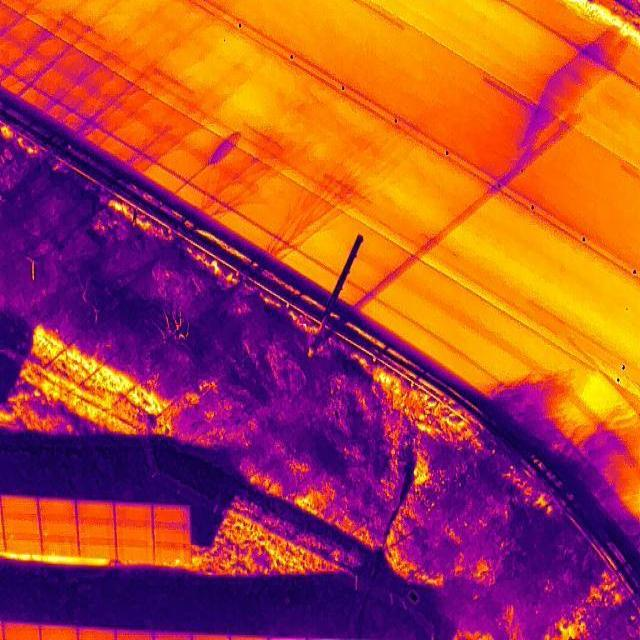Cell: (40, 521, 78, 541), (3, 520, 39, 540), (42, 540, 81, 556), (154, 548, 189, 562)
No-Anomaly: (114, 503, 154, 528), (39, 499, 78, 521), (116, 526, 155, 548), (78, 522, 116, 544), (153, 506, 189, 529), (77, 500, 114, 521), (1, 498, 38, 518), (154, 528, 191, 548), (117, 545, 153, 563), (79, 542, 116, 558), (5, 540, 41, 554)
